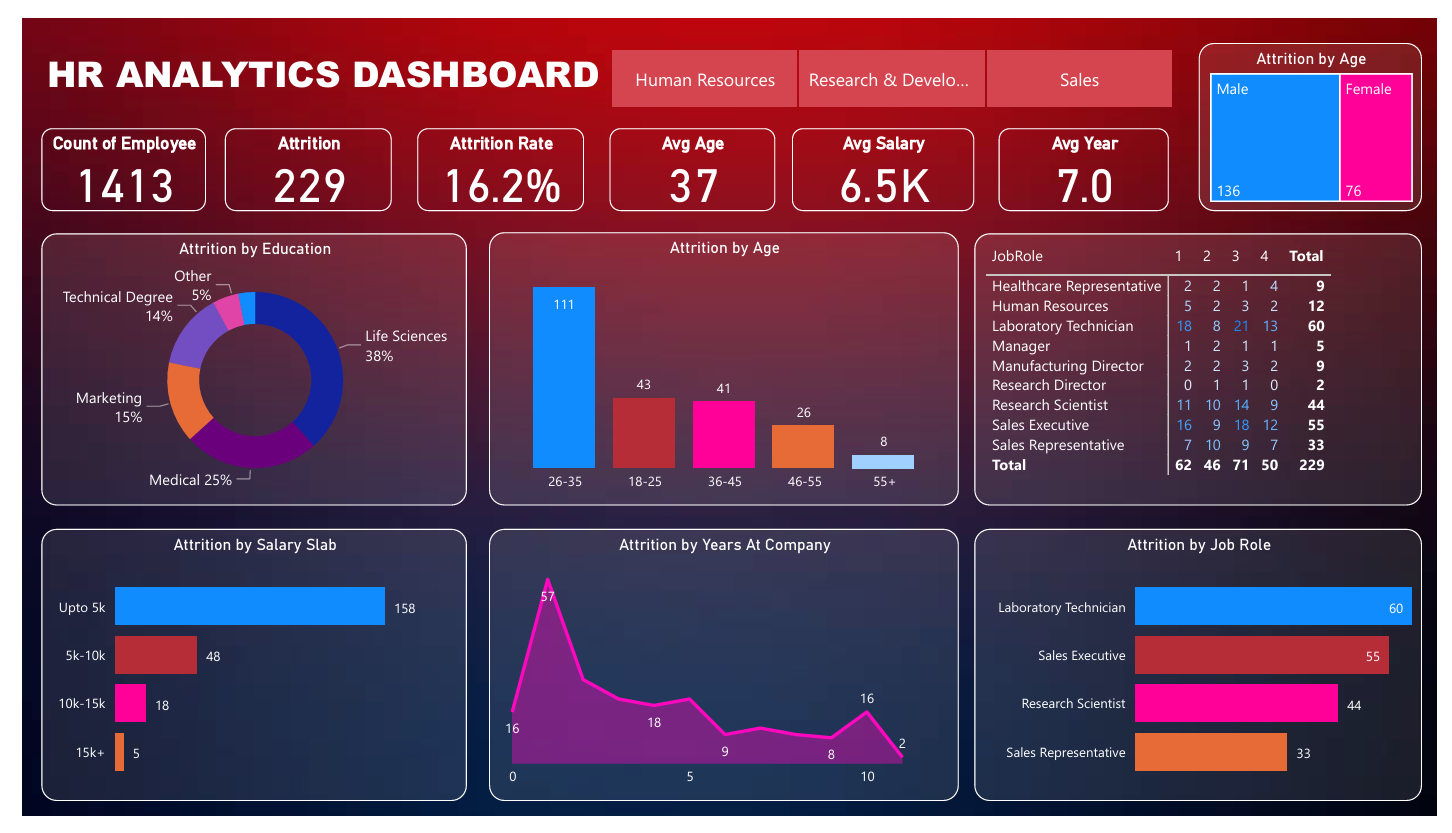

What the dashboard file says about the page in this screenshot:
{"tool":"powerbi","page":{"name":"Page 1","canvas":[1280,720],"ordinal":0},"visuals":[{"type":"card","title":"Count of Employee","fields":{"Values":["CountNonNull(HR_Analytics.EmpID)"]},"box":[16.9,98.9,149.5,74.8],"z":0},{"type":"card","title":"Attrition","fields":{"Values":["Sum(HR_Analytics.AttritionCount)"]},"box":[183.3,98.9,150.8,74.8],"z":1000},{"type":"card","title":"Attrition Rate","fields":{"Values":["HR_Analytics.AttritionRate"]},"box":[357,98.9,150.8,74.8],"z":2000},{"type":"card","title":"Avg Age","fields":{"Values":["Avg(HR_Analytics.Age)"]},"box":[530.7,98.9,150.8,74.8],"z":3000},{"type":"card","title":"Avg Salary","fields":{"Values":["Avg(HR_Analytics.MonthlyIncome)"]},"box":[695.9,98.9,165.2,74.8],"z":4000},{"type":"card","title":"Avg Year","fields":{"Values":["Avg(HR_Analytics.YearsAtCompany)"]},"box":[882.8,98.9,154.4,74.8],"z":5000},{"type":"donutChart","title":"Attrition by Education","fields":{"Category":["HR_Analytics.EducationField"],"Y":["Sum(HR_Analytics.AttritionCount)"]},"box":[16.9,194.2,384.7,246],"z":6000},{"type":"columnChart","title":"Attrition by Age","fields":{"Category":["HR_Analytics.AgeGroup"],"Y":["Sum(HR_Analytics.AttritionCount)"]},"box":[422.1,193,424.5,247.2],"z":7000},{"type":"pivotTable","fields":{"Rows":["HR_Analytics.JobRole"],"Columns":["HR_Analytics.JobSatisfaction"],"Values":["Sum(HR_Analytics.AttritionCount)"]},"box":[861.1,194.2,405.2,246],"z":8000},{"type":"barChart","title":"Attrition by Salary Slab","fields":{"Category":["HR_Analytics.SalarySlab"],"Y":["Sum(HR_Analytics.AttritionCount)"]},"box":[16.9,460.7,384.7,246],"z":9000},{"type":"barChart","title":"Attrition by Job Role","fields":{"Y":["Sum(HR_Analytics.AttritionCount)"],"Category":["HR_Analytics.JobRole"]},"box":[861.1,460.7,405.2,246],"z":10000},{"type":"areaChart","title":"Attrition by Years At Company","fields":{"Category":["HR_Analytics.YearsAtCompany"],"Y":["Sum(HR_Analytics.AttritionCount)"]},"box":[422.1,460.7,424.5,246],"z":11000},{"type":"treemap","title":"Attrition by Age","fields":{"Group":["HR_Analytics.Gender"],"Values":["Sum(HR_Analytics.AttritionCount)"]},"box":[1063.7,21.7,202.6,152],"z":12000},{"type":"textbox","box":[16.9,21.7,524.6,65.1],"z":14000},{"type":"slicer","fields":{"Values":["HR_Analytics.Department"]},"box":[507.7,21.7,556,65.1],"z":14001}]}

Visuals, with their boxes in screenshot pixels (x1, y1, x2, y2), scaled from the page's 1280x720 canvas onto the 1452x833 screenshot:
"Count of Employee" card: (x1=19, y1=114, x2=189, y2=201)
"Attrition" card: (x1=208, y1=114, x2=379, y2=201)
"Attrition Rate" card: (x1=405, y1=114, x2=576, y2=201)
"Avg Age" card: (x1=602, y1=114, x2=773, y2=201)
"Avg Salary" card: (x1=789, y1=114, x2=977, y2=201)
"Avg Year" card: (x1=1001, y1=114, x2=1177, y2=201)
"Attrition by Education" donutChart: (x1=19, y1=225, x2=456, y2=509)
"Attrition by Age" columnChart: (x1=479, y1=223, x2=960, y2=509)
pivotTable - HR_Analytics.JobRole x HR_Analytics.JobSatisfaction: (x1=977, y1=225, x2=1436, y2=509)
"Attrition by Salary Slab" barChart: (x1=19, y1=533, x2=456, y2=818)
"Attrition by Job Role" barChart: (x1=977, y1=533, x2=1436, y2=818)
"Attrition by Years At Company" areaChart: (x1=479, y1=533, x2=960, y2=818)
"Attrition by Age" treemap: (x1=1207, y1=25, x2=1436, y2=201)
textbox: (x1=19, y1=25, x2=614, y2=100)
slicer - HR_Analytics.Department: (x1=576, y1=25, x2=1207, y2=100)
